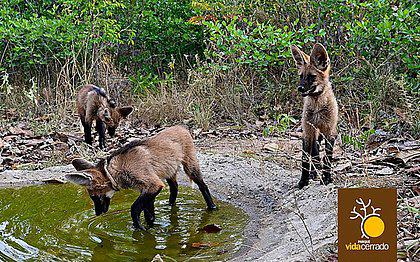LoboGuara: (67, 128, 224, 234), (277, 41, 346, 188), (57, 78, 133, 144)
